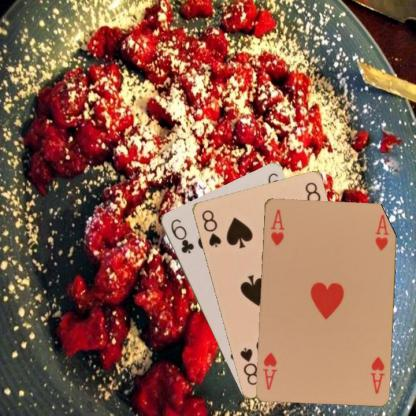6c: (168, 216, 195, 255)
8s: (199, 207, 222, 248)
Ah: (267, 206, 286, 247), (367, 354, 386, 395)
